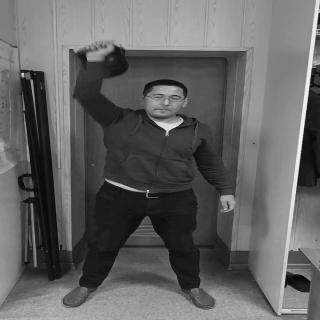kettlebell: (77, 44, 131, 81)
